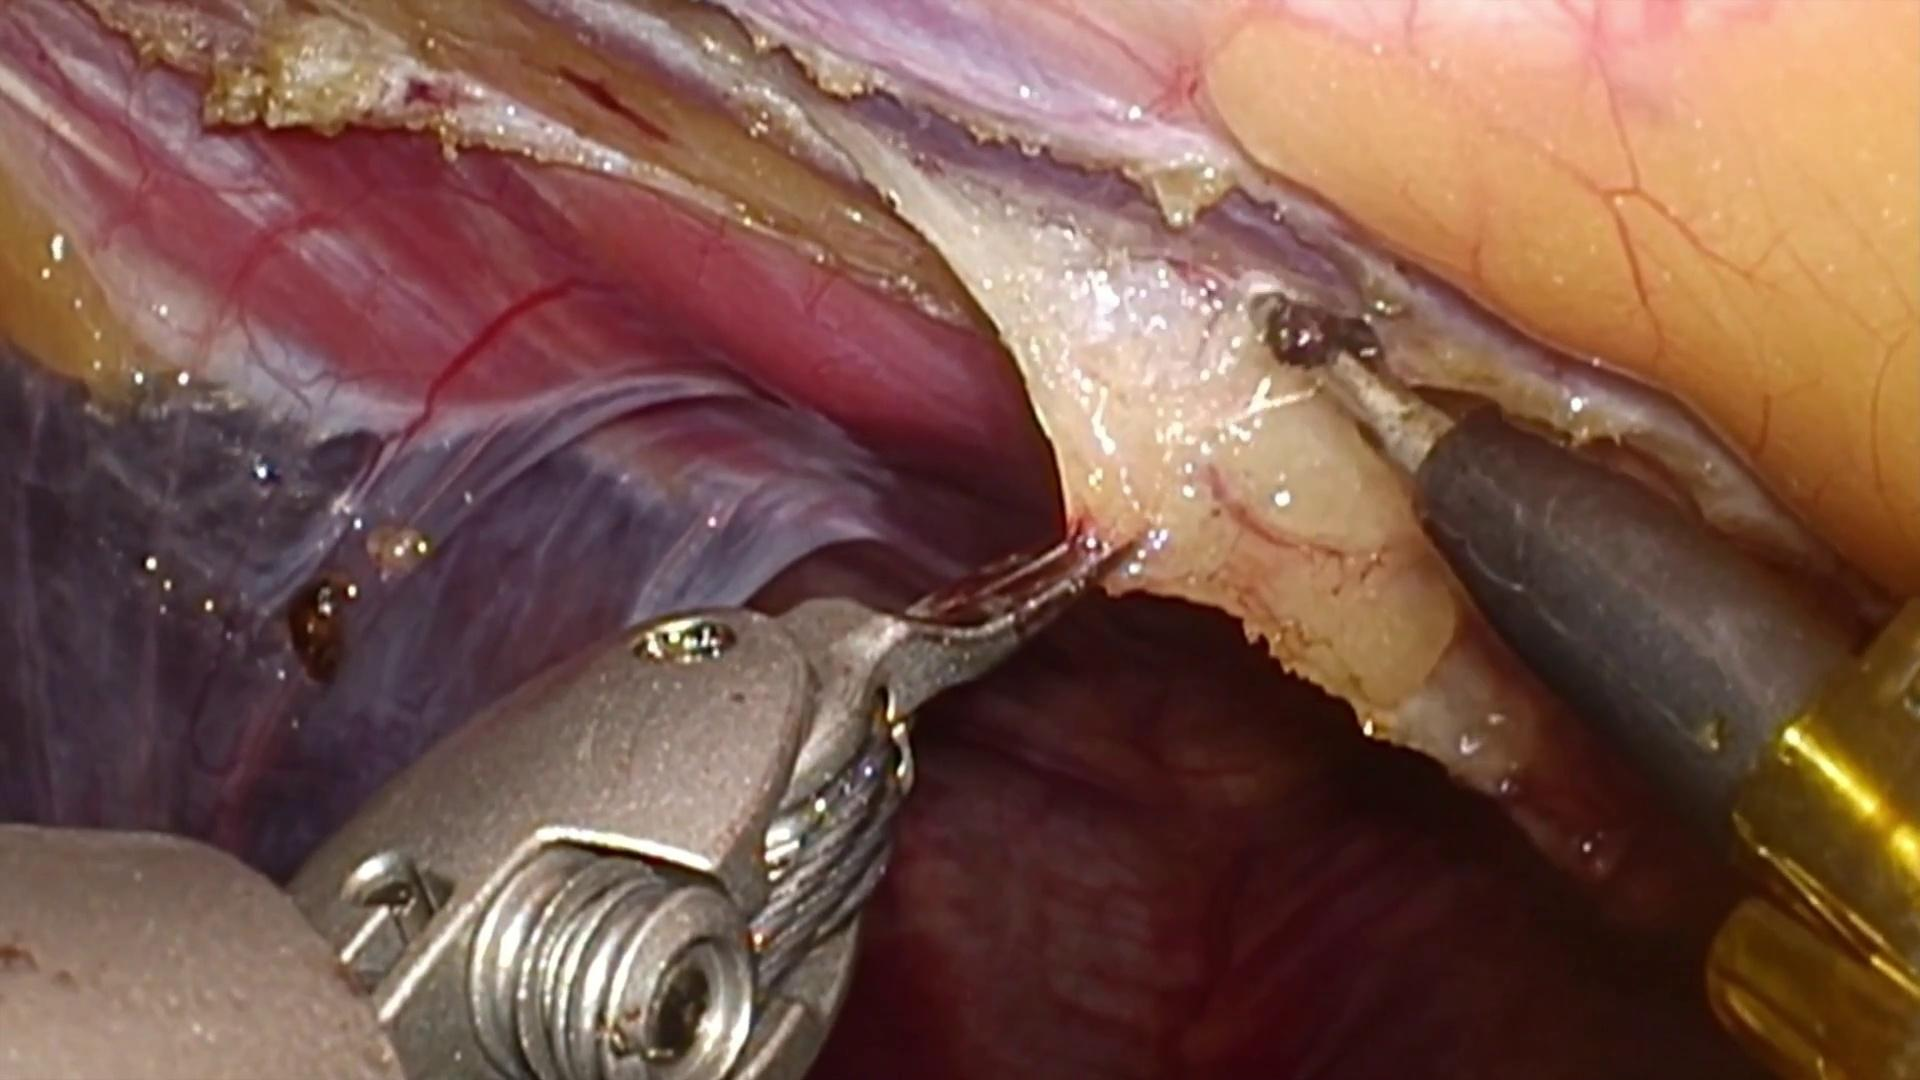Cautery_Spatula: (1262, 297, 1878, 851)
Debakey: (790, 475, 1160, 731)
